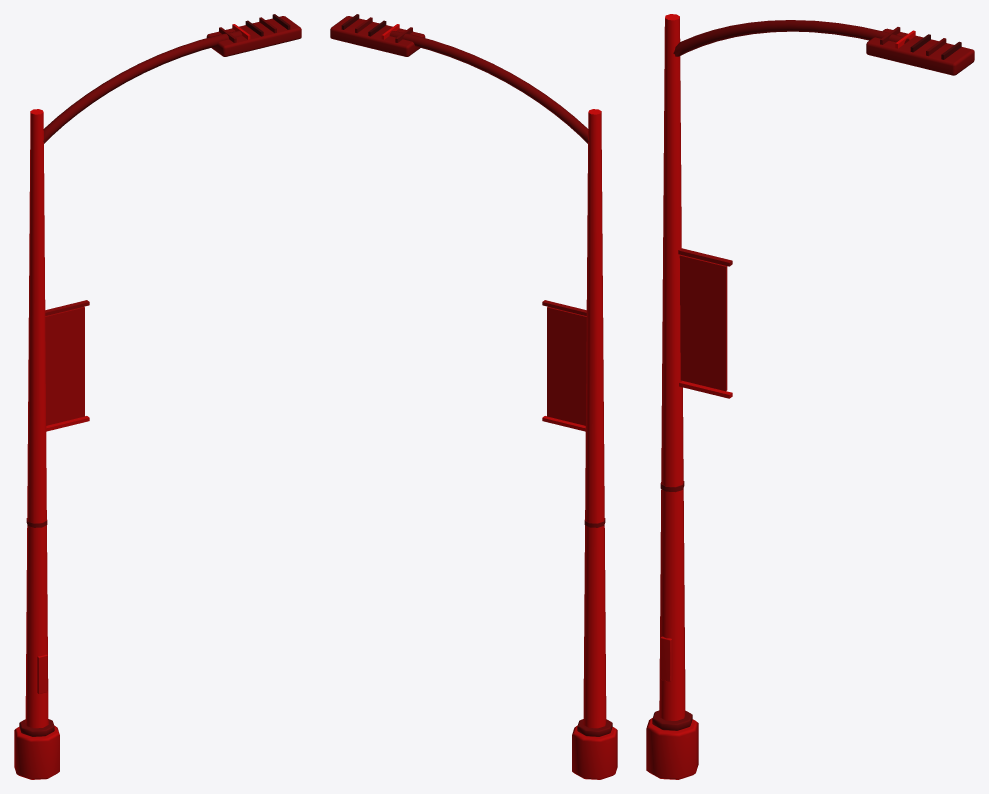
File: lamp_a.glb
The picture shows the model from 3 angles, left to right: view 1: azimuth 30°, elevation 25°; view 2: azimuth 150°, elevation 25°; view 3: azimuth 330°, elevation 25°; orthographic projection. The views are drawn at different scales.
Parts seen in each view (by area): view 1: lamp_a; view 2: lamp_a; view 3: lamp_a.
Part boxes in pixels (bbox=[...]): lamp_a: bbox=[14, 14, 301, 779]; lamp_a: bbox=[330, 14, 617, 779]; lamp_a: bbox=[646, 14, 974, 779].
Size of the model in its own units: 3.51 by 8.37 by 0.52.
